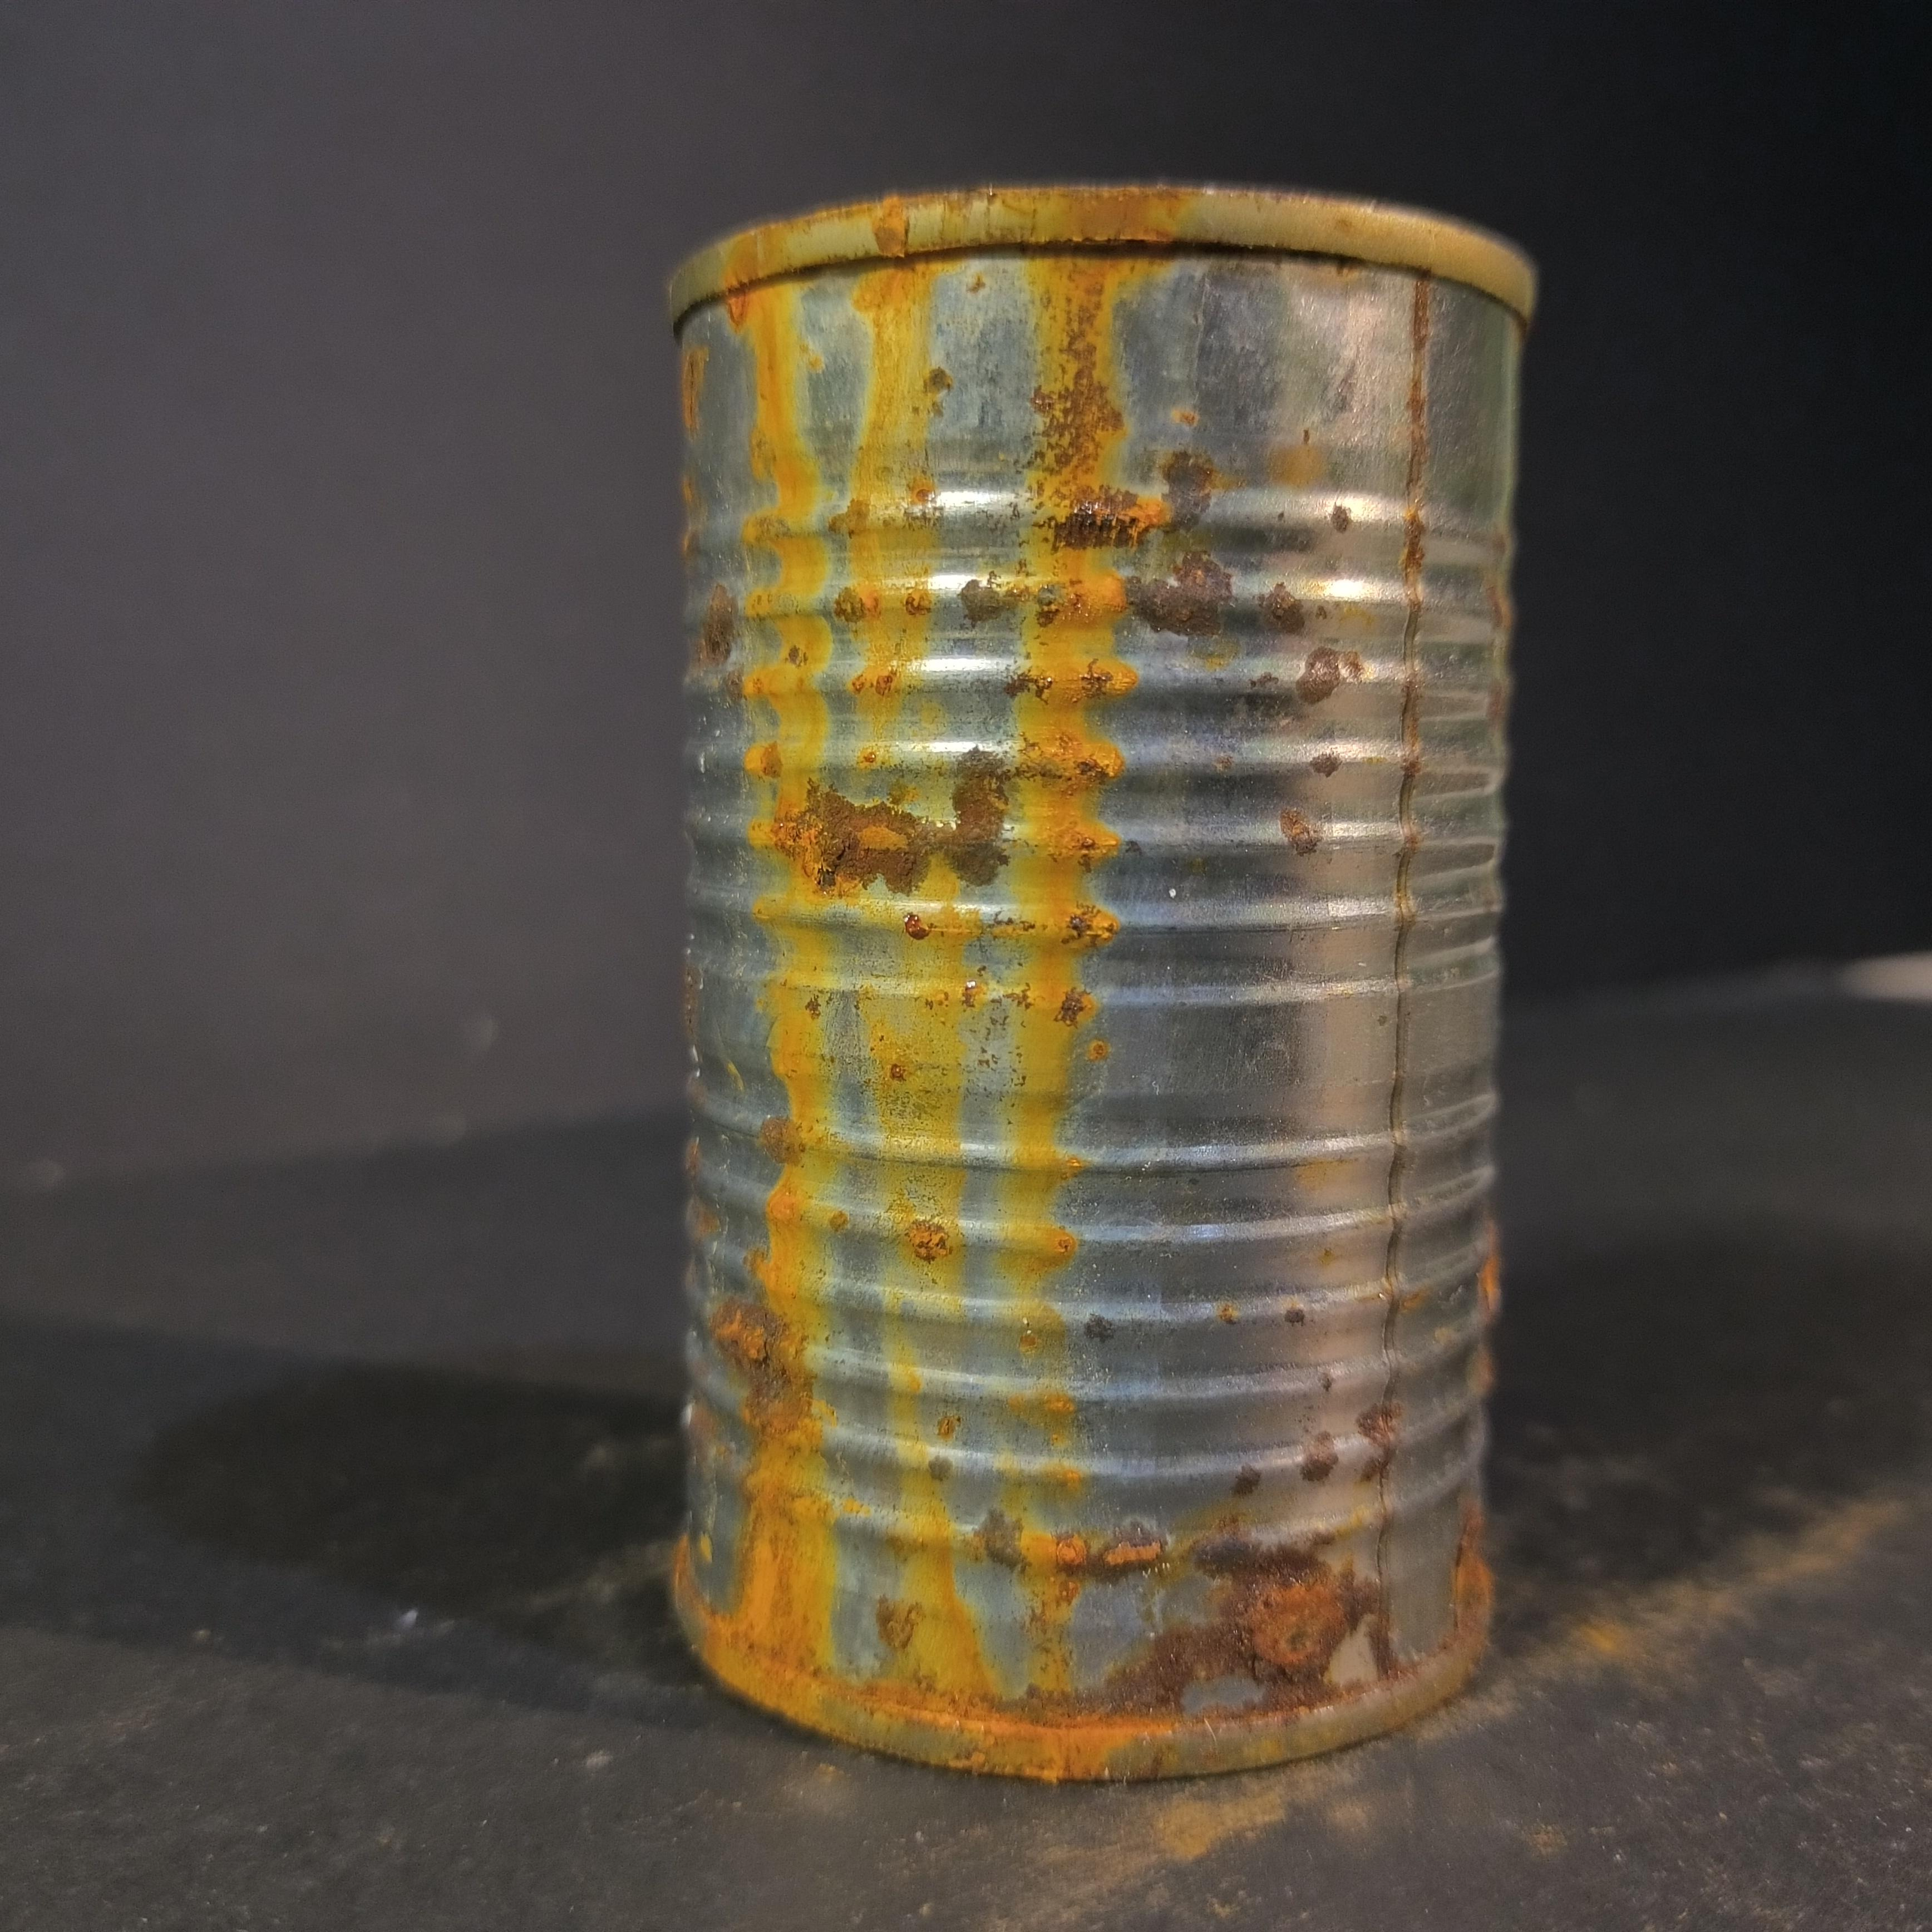Major Defect: (666, 178, 1539, 1783)
